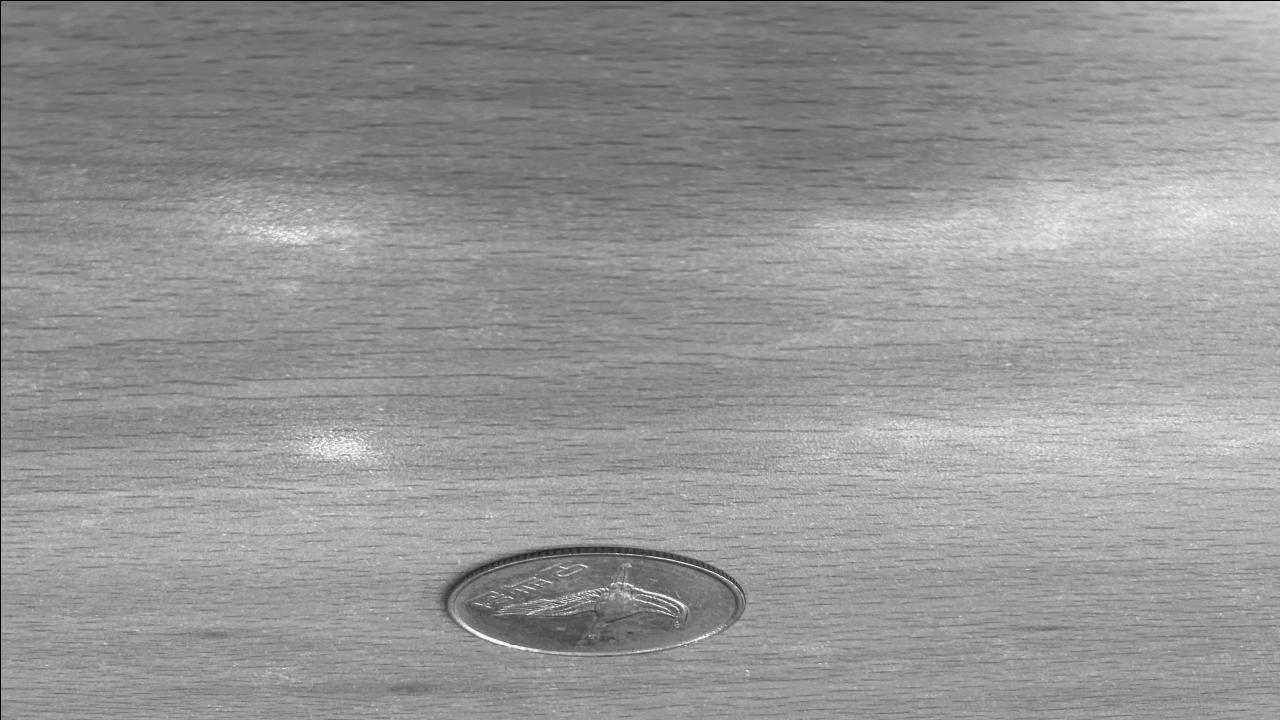coin: (441, 547, 749, 657)
